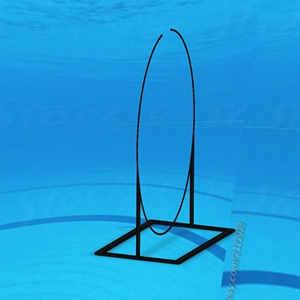circle: (93, 26, 236, 266)
